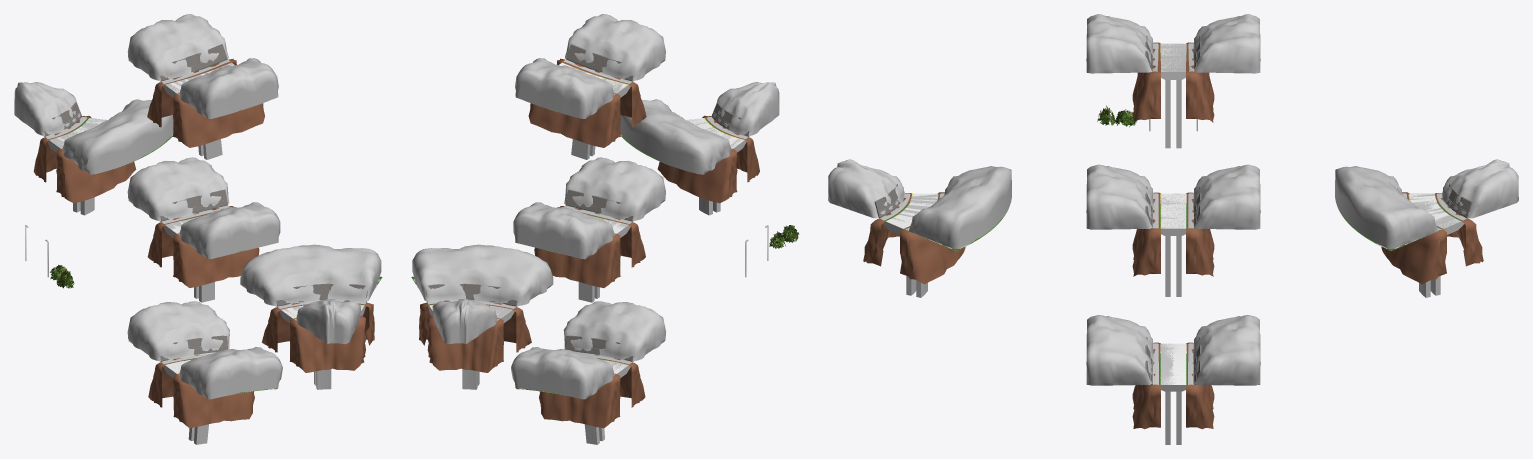
Rendered from Roads.fbx.
3 views of the same model, side by side, from view 1: azimuth 30°, elevation 25°; view 2: azimuth 150°, elevation 25°; view 3: azimuth 270°, elevation 25° (orthographic). The views are drawn at different scales.
Parts seen in each view (by area): view 1: Right LOD0 Mountain Left, Left LOD0 Mountain Right, Straight Down LOD0 Mountain Left, Straight LOD0 Mountain Left, Straight Up LOD0 Mountain Left, Straight LOD0 Mountain Right, Straight Up LOD0 Mountain Right, Straight Down LOD0 Mountain Right, Right LOD0 Cliff Right, Straight Up LOD0 Cliff Right, Straight Down LOD0 Cliff Right, Left LOD0 Mountain Left (+17 smaller); view 2: Left LOD0 Mountain Right, Right LOD0 Mountain Left, Straight Down LOD0 Mountain Right, Straight LOD0 Mountain Right, Straight Up LOD0 Mountain Right, Straight Up LOD0 Mountain Left, Straight LOD0 Mountain Left, Straight Down LOD0 Mountain Left, Left LOD0 Cliff Left, Straight Up LOD0 Cliff Left, Straight Down LOD0 Cliff Left, Right LOD0 Mountain Right (+18 smaller); view 3: Right LOD0 Mountain Left, Left LOD0 Mountain Right, Straight Down LOD0 Mountain Left, Straight Down LOD0 Mountain Right, Straight LOD0 Mountain Left, Straight LOD0 Mountain Right, Straight Up LOD0 Mountain Left, Straight Up LOD0 Mountain Right, Right LOD0 Mountain Right, Left LOD0 Mountain Left, Right LOD0 Cliff Left, Left LOD0 Cliff Right (+15 smaller).
Boxes of the visible parts, left/top/right/bottom form: Right LOD0 Mountain Left: left=240, top=244, right=381, bottom=306; Left LOD0 Mountain Right: left=62, top=99, right=173, bottom=174; Straight Down LOD0 Mountain Left: left=127, top=301, right=229, bottom=361; Straight LOD0 Mountain Left: left=127, top=157, right=229, bottom=221; Straight Up LOD0 Mountain Left: left=127, top=14, right=228, bottom=81; Straight LOD0 Mountain Right: left=179, top=202, right=280, bottom=259; Straight Up LOD0 Mountain Right: left=179, top=58, right=278, bottom=118; Straight Down LOD0 Mountain Right: left=179, top=347, right=282, bottom=399; Right LOD0 Cliff Right: left=289, top=315, right=366, bottom=372; Straight Up LOD0 Cliff Right: left=172, top=93, right=264, bottom=147; Straight Down LOD0 Cliff Right: left=173, top=373, right=254, bottom=428; Left LOD0 Mountain Left: left=14, top=82, right=76, bottom=136; Left LOD0 Mountain Right: left=412, top=244, right=553, bottom=306; Right LOD0 Mountain Left: left=620, top=99, right=731, bottom=174; Straight Down LOD0 Mountain Right: left=563, top=301, right=665, bottom=362; Straight LOD0 Mountain Right: left=564, top=157, right=665, bottom=221; Straight Up LOD0 Mountain Right: left=565, top=14, right=665, bottom=81; Straight Up LOD0 Mountain Left: left=515, top=58, right=614, bottom=118; Straight LOD0 Mountain Left: left=513, top=202, right=614, bottom=259; Straight Down LOD0 Mountain Left: left=511, top=347, right=614, bottom=399; Left LOD0 Cliff Left: left=427, top=316, right=503, bottom=372; Straight Up LOD0 Cliff Left: left=528, top=93, right=620, bottom=147; Straight Down LOD0 Cliff Left: left=539, top=373, right=620, bottom=428; Right LOD0 Mountain Right: left=717, top=82, right=779, bottom=136; Right LOD0 Mountain Left: left=909, top=166, right=1011, bottom=248; Left LOD0 Mountain Right: left=1335, top=166, right=1437, bottom=248; Straight Down LOD0 Mountain Left: left=1193, top=315, right=1260, bottom=385; Straight Down LOD0 Mountain Right: left=1086, top=315, right=1153, bottom=385; Straight LOD0 Mountain Left: left=1193, top=164, right=1260, bottom=229; Straight LOD0 Mountain Right: left=1086, top=164, right=1153, bottom=229; Straight Up LOD0 Mountain Left: left=1193, top=14, right=1260, bottom=73; Straight Up LOD0 Mountain Right: left=1086, top=14, right=1153, bottom=73; Right LOD0 Mountain Right: left=828, top=159, right=904, bottom=218; Left LOD0 Mountain Left: left=1442, top=159, right=1518, bottom=218; Right LOD0 Cliff Left: left=900, top=192, right=965, bottom=284; Left LOD0 Cliff Right: left=1381, top=192, right=1446, bottom=284.
Size of what is drawn, in the model's own units: 1900 by 2816 by 4174.
